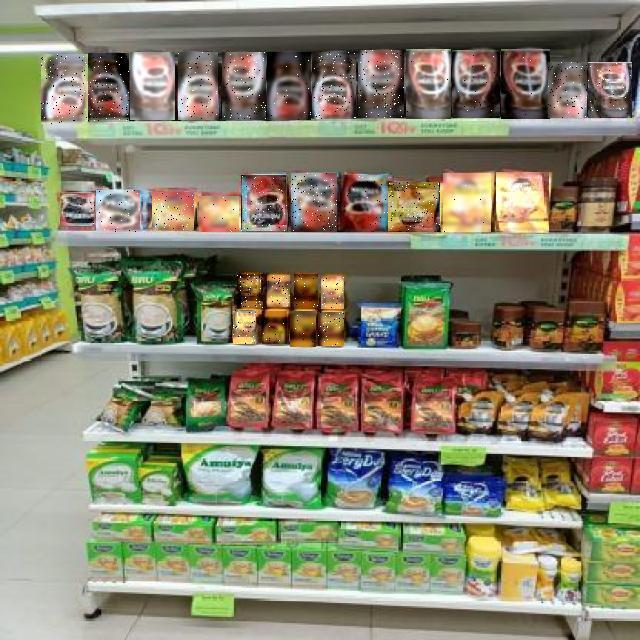Coffee: (501, 49, 550, 119), (41, 54, 88, 124), (452, 50, 500, 118), (496, 172, 549, 233), (406, 49, 451, 119), (359, 50, 405, 118), (130, 52, 175, 120), (222, 52, 266, 120), (267, 52, 311, 120), (313, 52, 357, 119), (443, 173, 491, 232), (88, 54, 129, 122), (179, 52, 219, 120), (291, 173, 337, 232), (341, 175, 389, 231), (389, 183, 441, 233), (241, 175, 287, 231), (588, 62, 632, 118), (548, 62, 587, 118), (97, 190, 141, 232), (152, 192, 194, 230), (199, 196, 239, 232), (60, 194, 95, 230), (290, 311, 316, 347), (237, 274, 263, 308), (318, 312, 344, 346), (262, 311, 287, 344), (294, 274, 318, 308), (233, 310, 256, 344), (321, 276, 344, 309), (267, 275, 290, 307)
